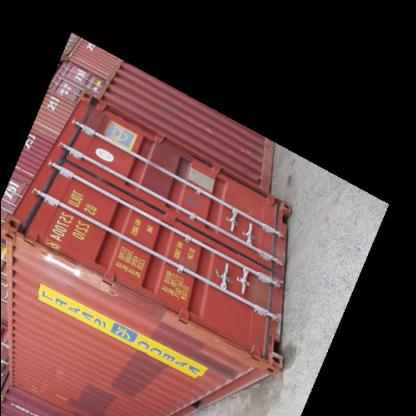Damage: (2, 228, 116, 296), (180, 318, 280, 373), (252, 241, 282, 333)
